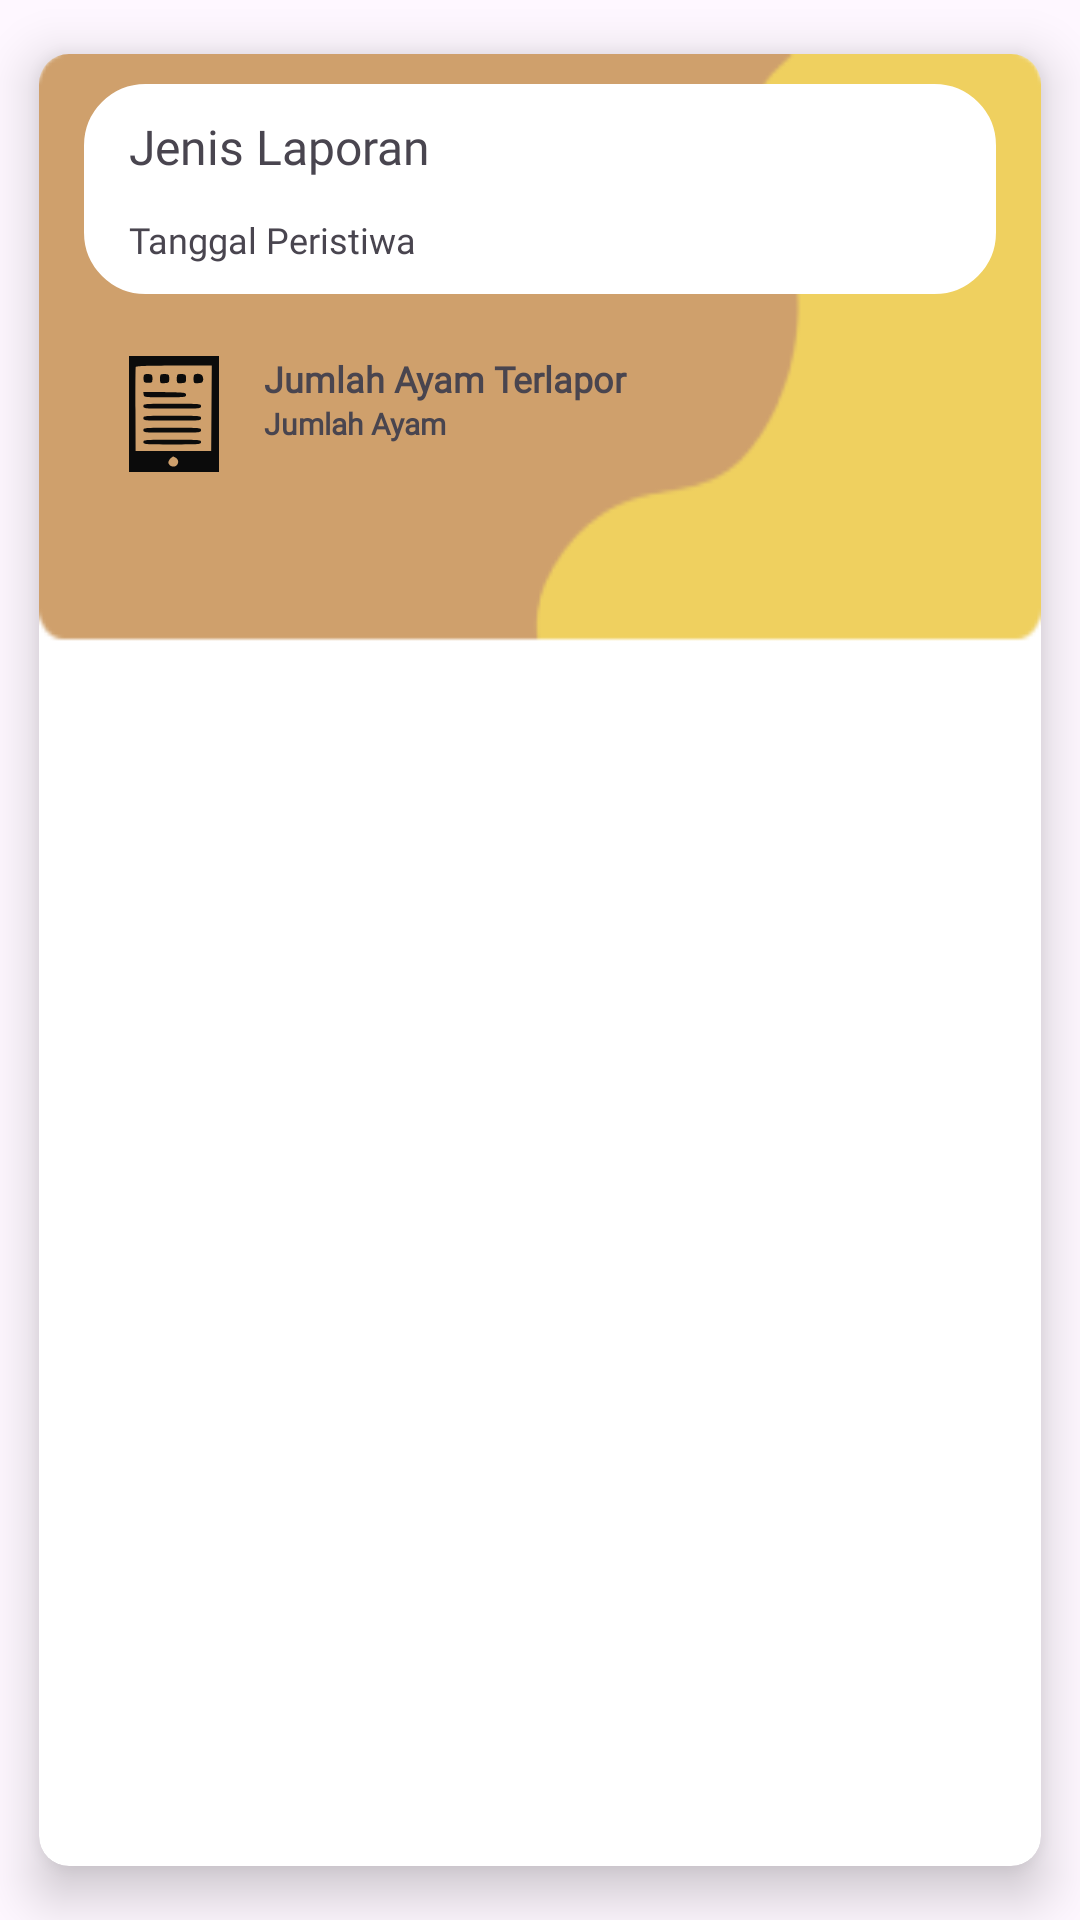

Icons on this 1080w x 1920h Android screen, each with the point to tap as (x,y):
report vec: (174,414)
